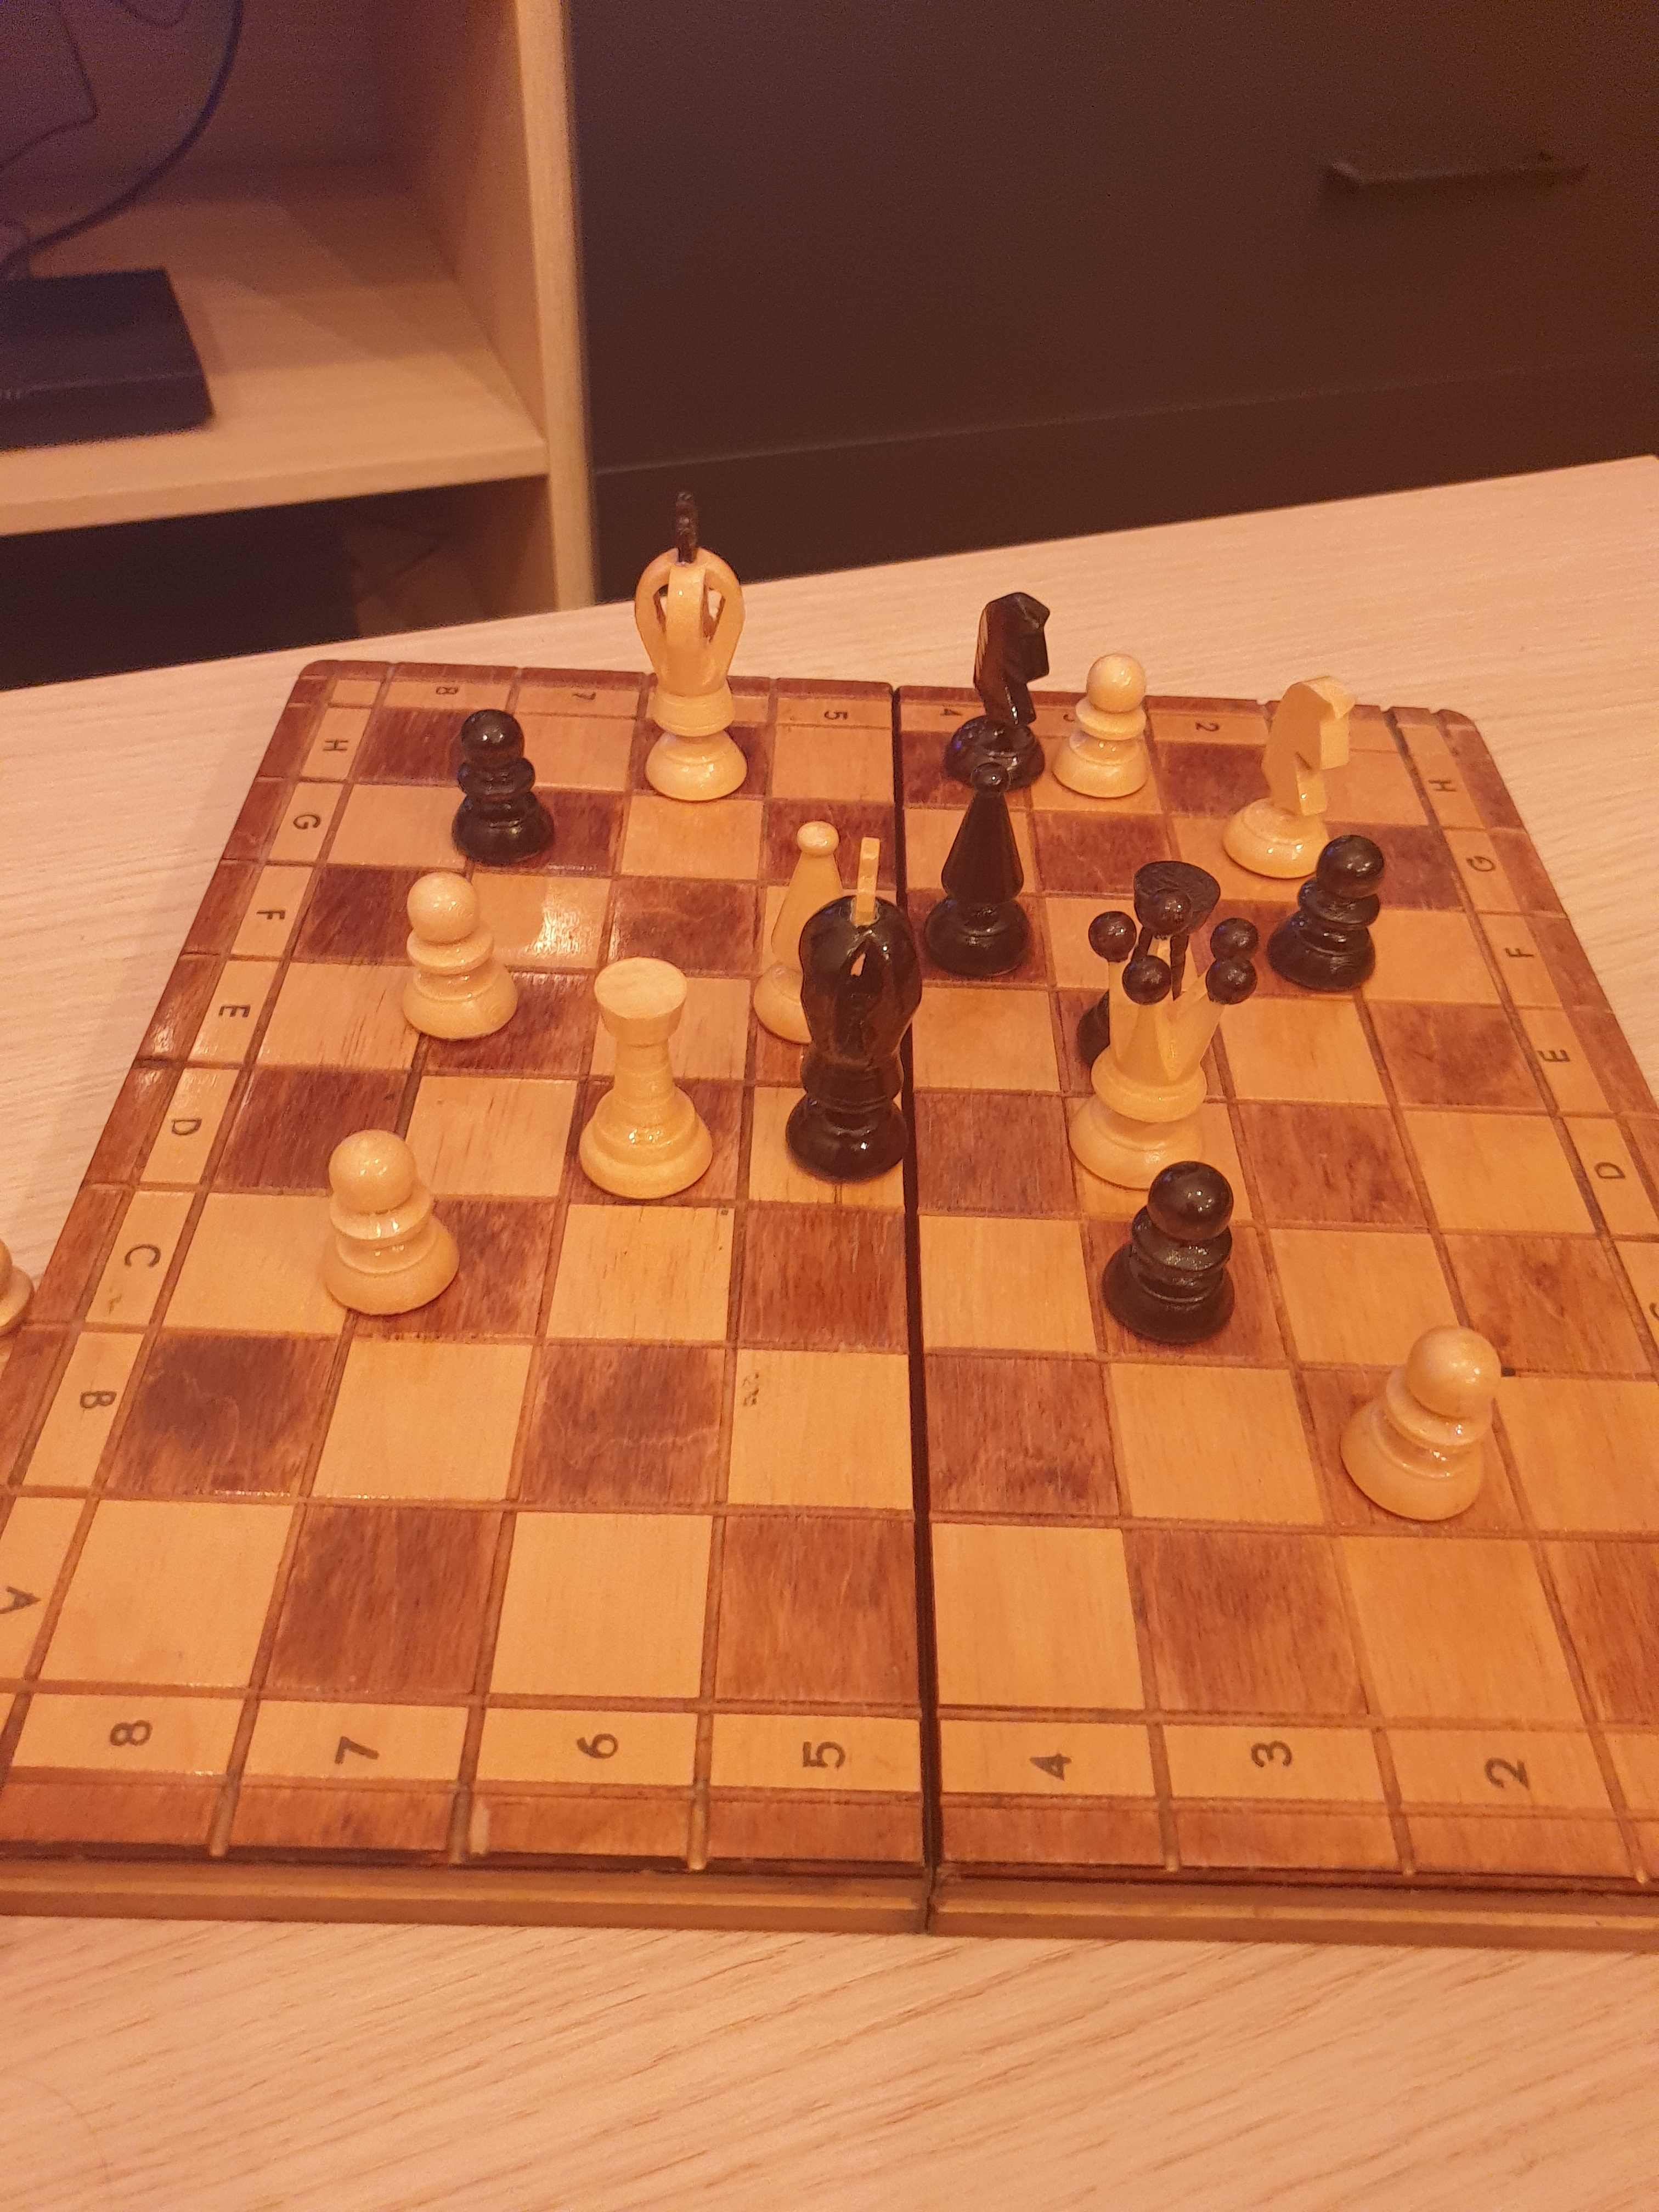bbishop: (910, 754, 1056, 993)
bking: (782, 829, 924, 1190)
bknight: (938, 585, 1060, 805)
bpawn: (1093, 1148, 1248, 1350), (1256, 815, 1394, 1010), (443, 697, 565, 878)
brook: (1072, 852, 1229, 1085)
wbishop: (737, 810, 885, 1061)
wking: (619, 477, 758, 813)
wknight: (1209, 667, 1363, 887)
wpawn: (1326, 1317, 1511, 1536), (298, 1116, 479, 1334), (378, 857, 538, 1068), (1042, 636, 1168, 812)
wqueen: (1056, 876, 1262, 1202)
wrook: (565, 951, 723, 1211)
